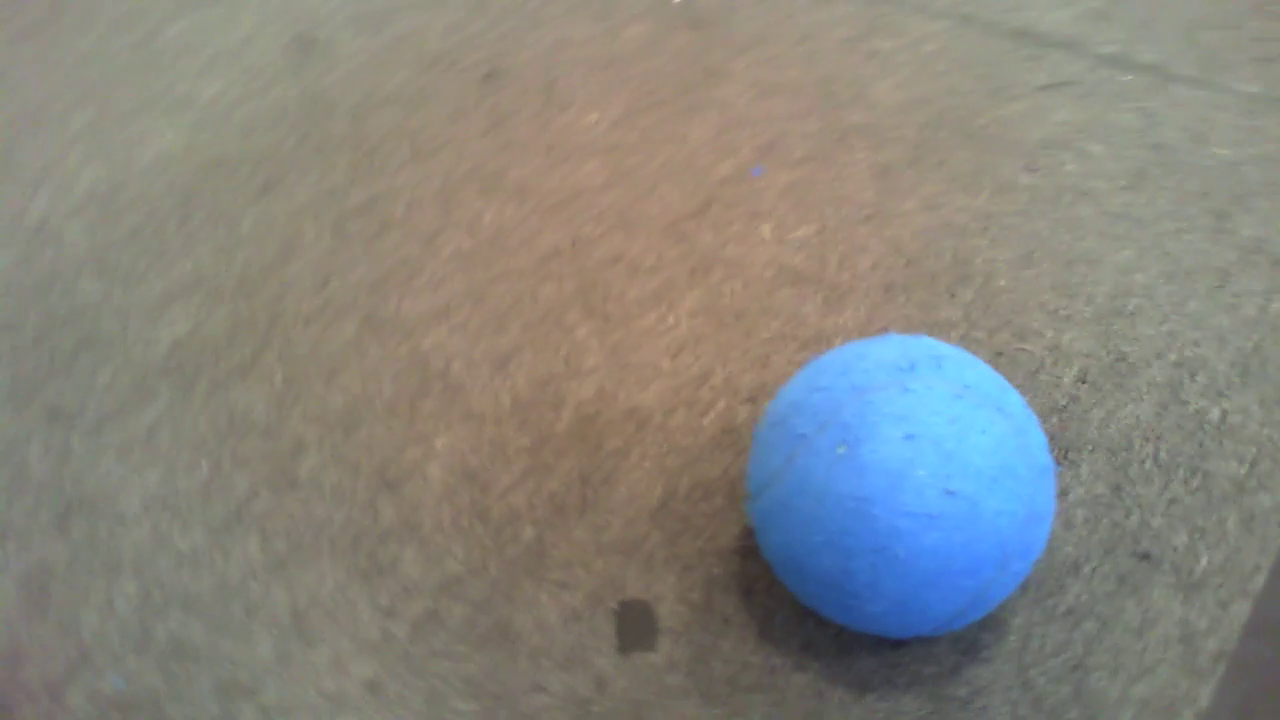blue_cargo: (744, 322, 1055, 652)
